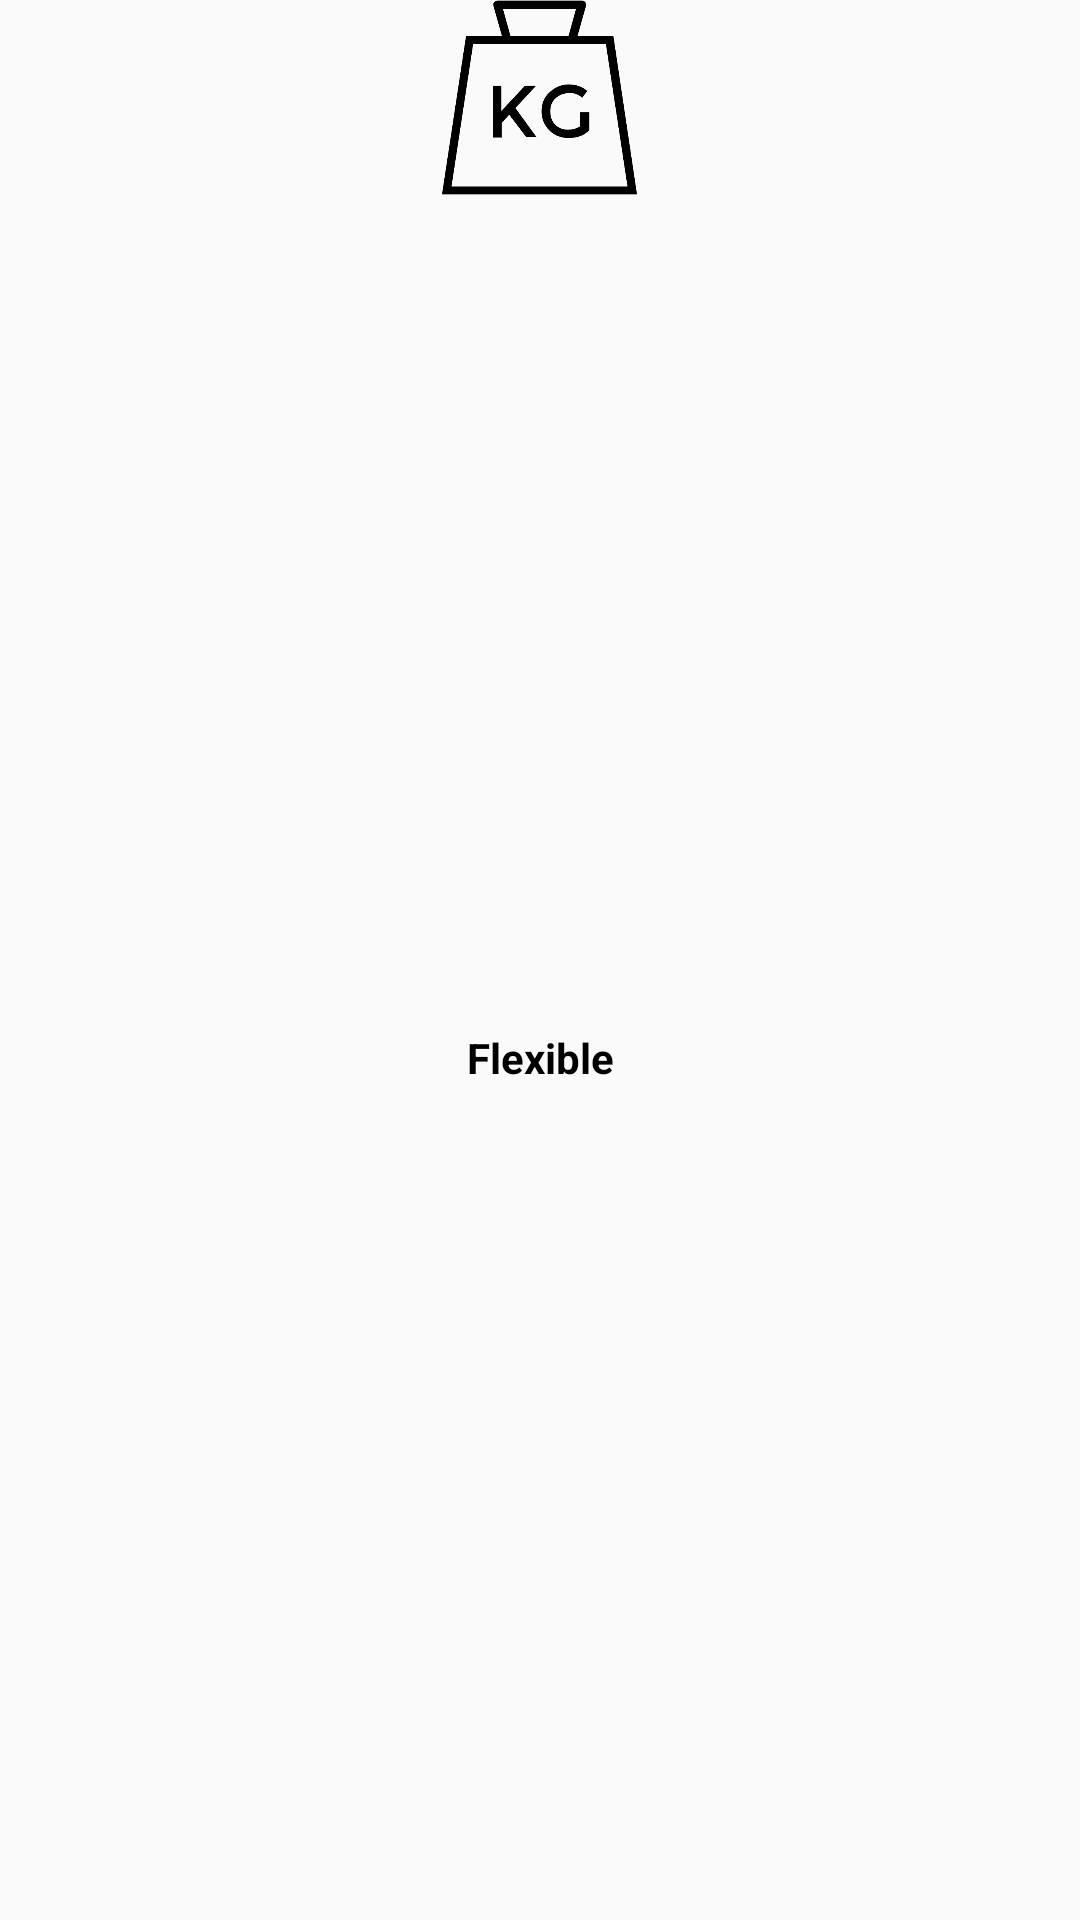

Icons on this 1080×1920 Android screen, each with its box as (x1, y1, x2, y2):
weight: (442, 0, 637, 195)
